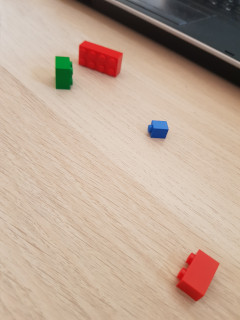1x1 blue: (147, 119, 169, 140)
2x2 green: (55, 55, 73, 90)
2x4 red: (78, 39, 123, 78)
